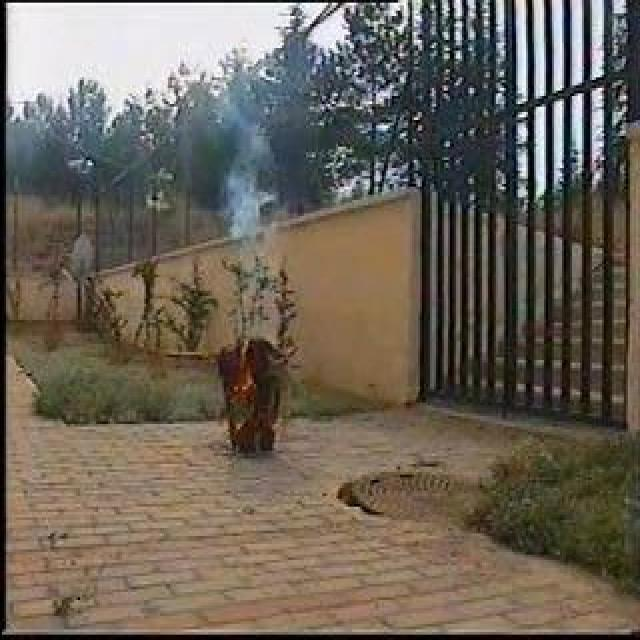fire: (233, 358, 259, 398)
smoke: (226, 112, 268, 243)
